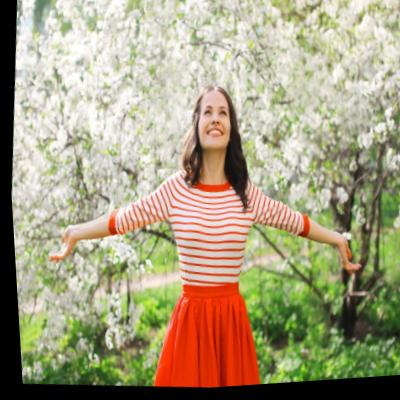happy: (188, 97, 236, 159)
